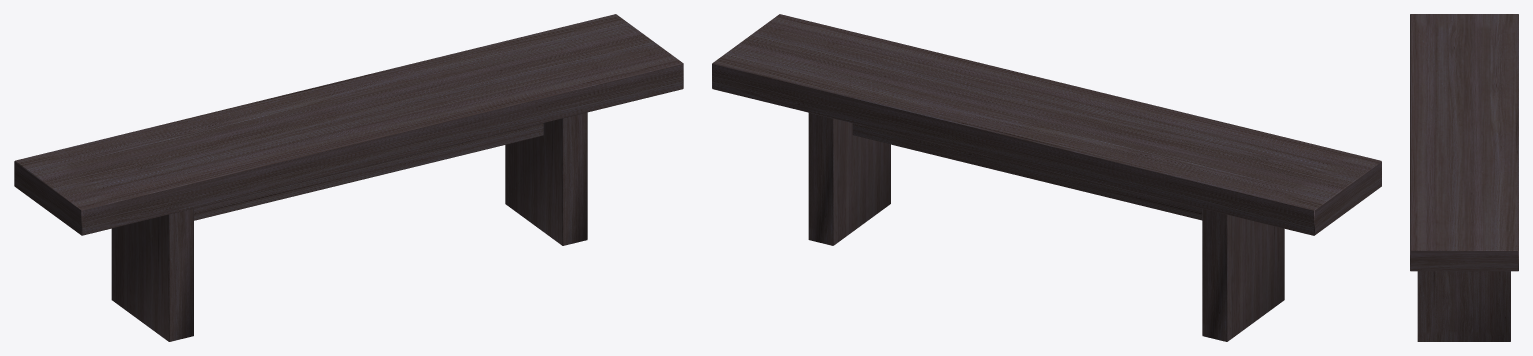
3 renders of one model, left to right at view 1: azimuth 30°, elevation 25°; view 2: azimuth 150°, elevation 25°; view 3: azimuth 270°, elevation 25°, orthographic. The views are drawn at different scales.
Visible parts, largest first — view 1: bench; view 2: bench; view 3: bench.
Boxes of the visible parts, x1,y1,x2,y2 form: bench: (14, 14, 683, 341); bench: (712, 14, 1381, 341); bench: (1410, 14, 1518, 341).
Bounding box in the file's own units: 183 × 45.86 × 35.56.
Materials: 1 (1 with a texture image).
